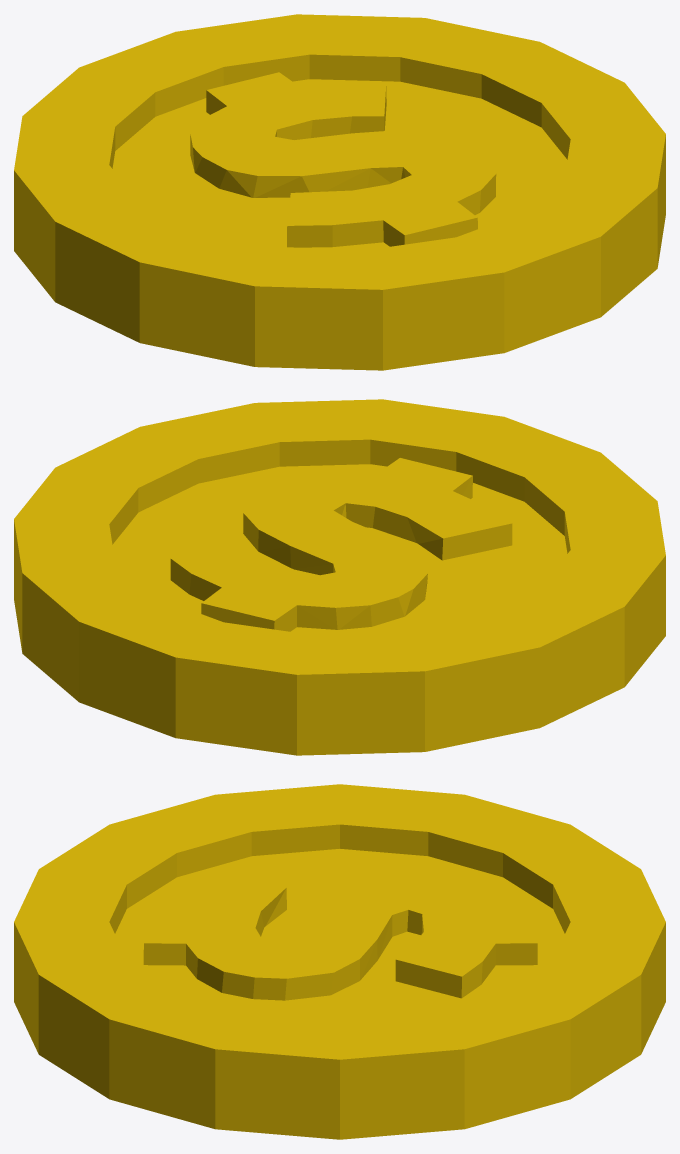
Rendered from gold.fbx.
3 views of the same model, one above another, from view 1: azimuth 30°, elevation 25°; view 2: azimuth 150°, elevation 25°; view 3: azimuth 270°, elevation 25° (orthographic).
Visible parts, largest first — view 1: Cylinder.061; view 2: Cylinder.061; view 3: Cylinder.061.
Part boxes in pixels (x1=…): Cylinder.061: x1=14, y1=14, x2=665, y2=370; Cylinder.061: x1=14, y1=399, x2=665, y2=755; Cylinder.061: x1=14, y1=784, x2=665, y2=1139.
Size of the model in its own units: 74.02 by 10.03 by 74.02.
